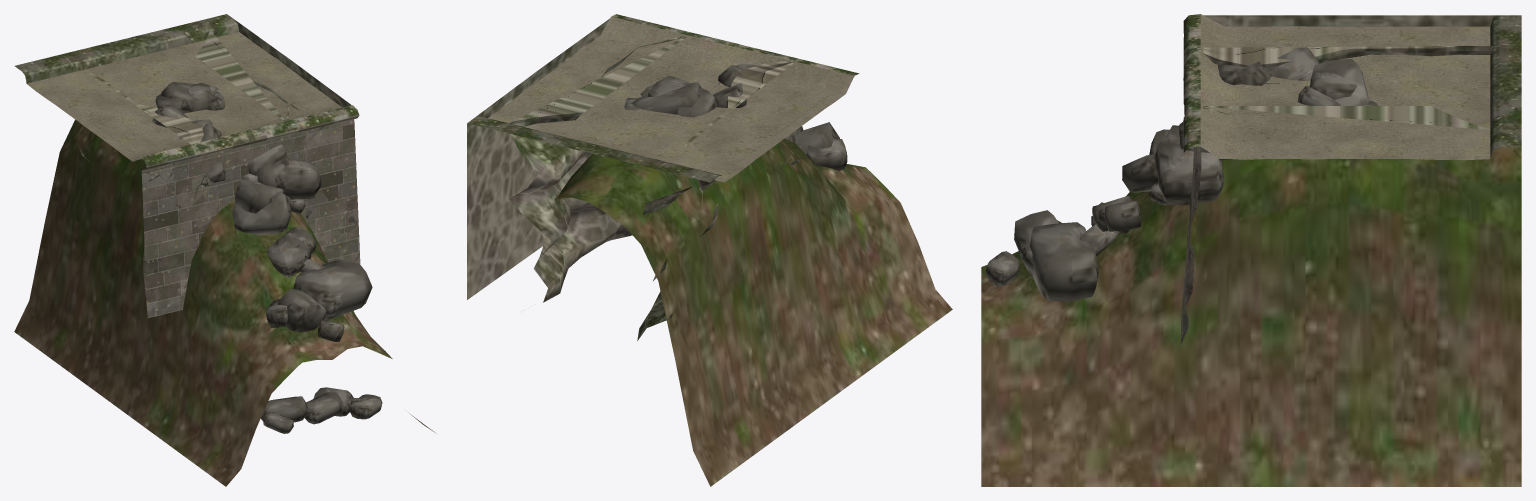
File: starfort_bastion_gorge_hero.glb
The picture shows the model from 3 angles, left to right: view 1: azimuth 30°, elevation 25°; view 2: azimuth 150°, elevation 25°; view 3: azimuth 270°, elevation 25°; orthographic projection. The views are drawn at different scales.
Visible parts, largest first — view 1: breached, intact, cracked, endcap_b; view 2: breached, intact, cracked, endcap_b; view 3: breached, intact, cracked, endcap_a.
Boxes of the visible parts, left/top/right/bottom form: breached: left=14, top=15, right=435, bottom=486; intact: left=15, top=14, right=360, bottom=318; cracked: left=18, top=15, right=382, bottom=433; endcap_b: left=235, top=20, right=351, bottom=107; breached: left=469, top=20, right=952, bottom=486; intact: left=468, top=15, right=857, bottom=182; cracked: left=468, top=14, right=855, bottom=182; endcap_b: left=467, top=18, right=609, bottom=299; breached: left=981, top=15, right=1521, bottom=486; intact: left=1181, top=14, right=1521, bottom=339; cracked: left=1181, top=16, right=1521, bottom=342; endcap_a: left=1187, top=15, right=1500, bottom=26.
Size of what is drawn, in the model's own units: 4.05 by 5.08 by 6.9.
Materials: 1 (1 with a texture image).
